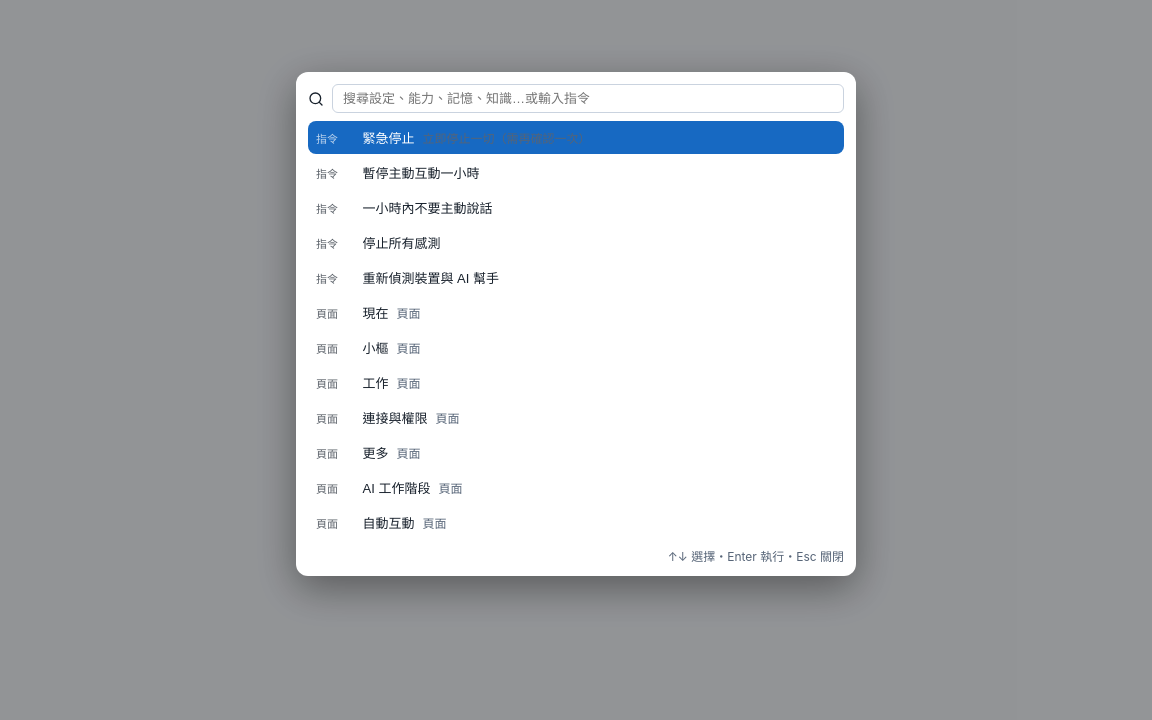
Global Search 一般模式說人話 › 一般模式的 UUID 只留後 6 碼；進階模式才是完整識別碼
In the field with placeholder "搜尋設定、能力、記憶、知識…或輸入指令": (588, 98) [332,84,844,113], type "手動複審"
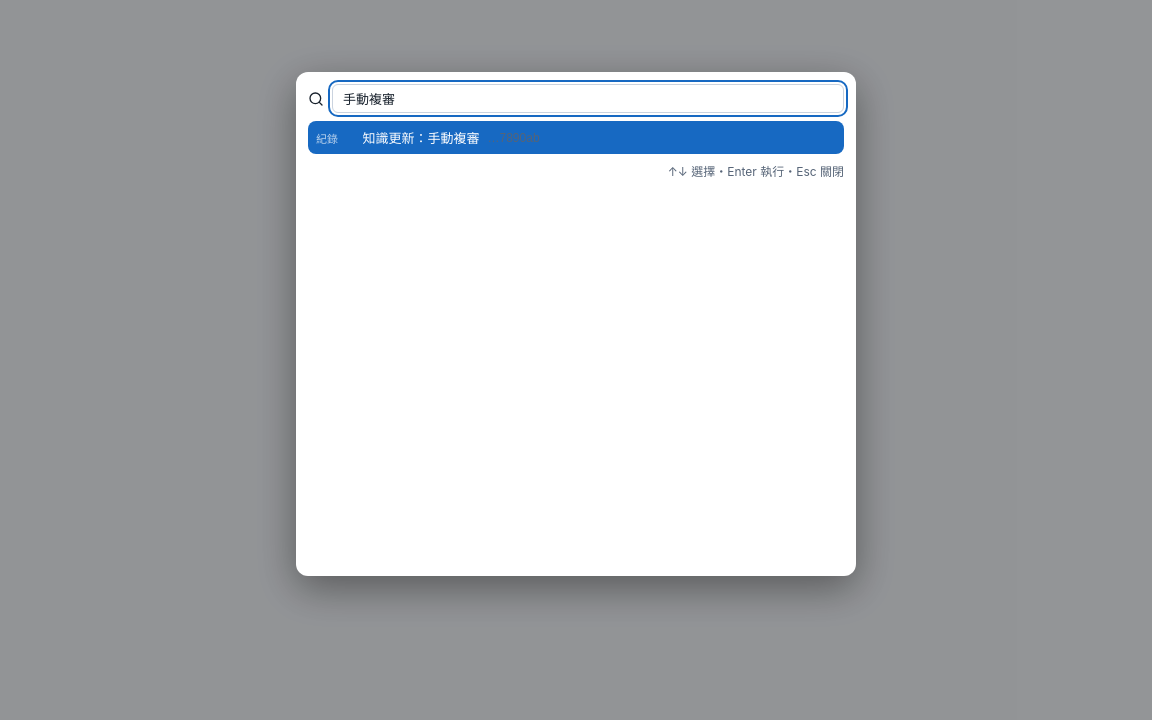
Expected: the text "知識更新：手動複審" is shown, [362,128,480,147]
Expected: the text "…7890ab" is shown, [488,130,540,144]
